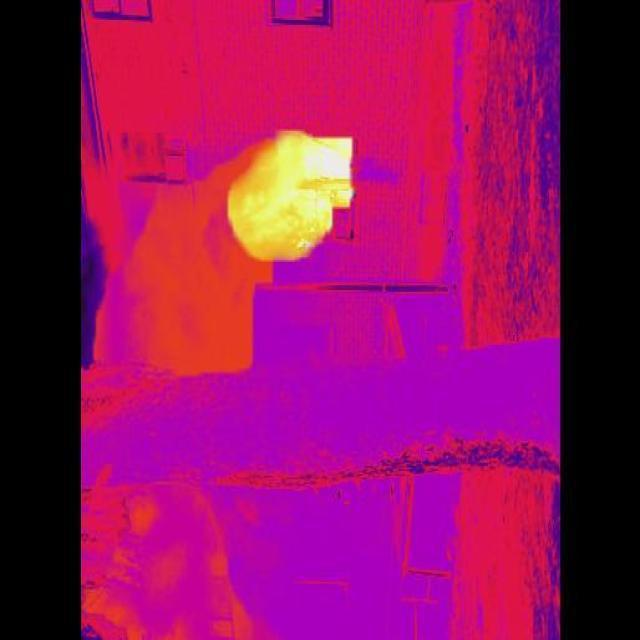fire: (226, 130, 360, 273)
